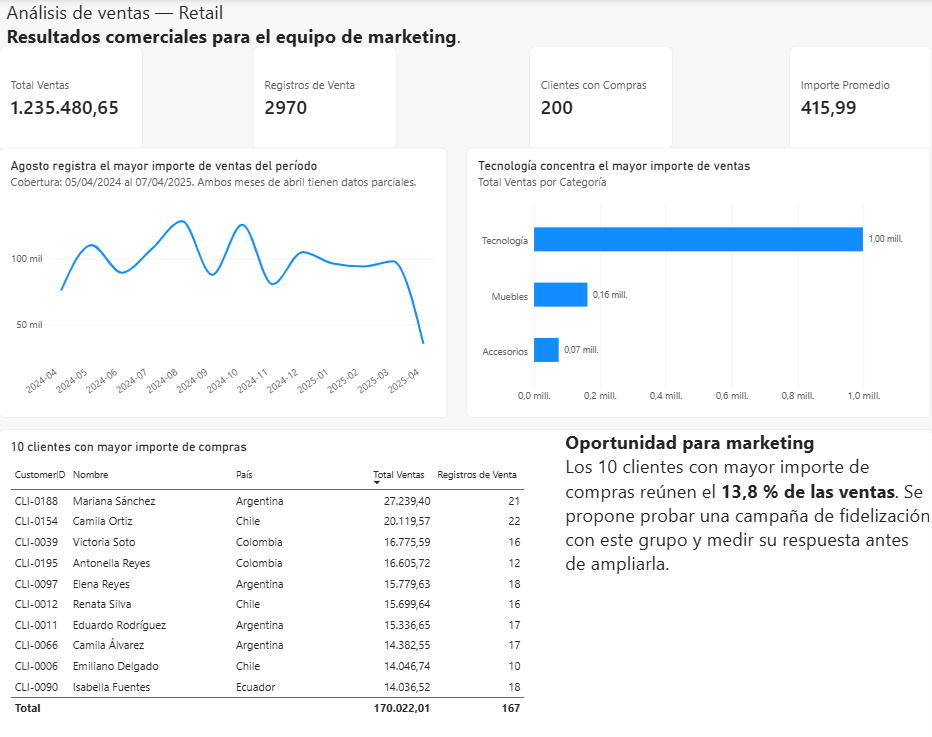

This screenshot's page, from the dashboard's own definition file:
{"tool":"powerbi","page":{"name":"Dashboard","canvas":[1920,1080],"ordinal":1},"visuals":[{"type":"textbox","box":[11,0,987.7,136.4],"z":0},{"type":"cardVisual","fields":{"Data":["_Medidas.Total Ventas"]},"box":[0,68.2,209,149.6],"z":1000},{"type":"cardVisual","fields":{"Data":["_Medidas.Registros de Venta"]},"box":[367.4,68.2,209,149.6],"z":2000},{"type":"cardVisual","fields":{"Data":["_Medidas.Clientes con Compras"]},"box":[767.7,68.2,209,149.6],"z":3000},{"type":"cardVisual","fields":{"Data":["_Medidas.Importe Promedio"]},"box":[1143.9,68.2,209,149.6],"z":4000},{"type":"lineChart","title":"Agosto registra el mayor importe de ventas del período","fields":{"Category":["Calendario.AñoMes"],"Y":["_Medidas.Total Ventas"]},"box":[0,215.6,648.9,391.6],"z":5000},{"type":"clusteredBarChart","title":"Tecnología concentra el mayor importe de ventas","fields":{"Category":["Productos.Categoría"],"Y":["_Medidas.Total Ventas"]},"box":[677.5,215.6,673.1,391.6],"z":6000},{"type":"tableEx","title":"10 clientes con mayor importe de compras","fields":{"Values":["Clientes.CustomerID","Clientes.Nombre","Clientes.País","_Medidas.Total Ventas","_Medidas.Registros de Venta"]},"box":[0,622.6,1352.9,457.6],"z":7000},{"type":"textbox","box":[819.8,622.5,530.2,260.6],"z":8000}]}

Visuals, with their boxes on the page's 1920x1080 design canvas (x1, y1, x2, y2). These are canvas units, not pixel positions in the 932x737 screenshot, which may show the page scaled, cropped or inside an application window:
textbox: <region>11, 0, 999, 136</region>
cardVisual - _Medidas.Total Ventas: <region>0, 68, 209, 218</region>
cardVisual - _Medidas.Registros de Venta: <region>367, 68, 576, 218</region>
cardVisual - _Medidas.Clientes con Compras: <region>768, 68, 977, 218</region>
cardVisual - _Medidas.Importe Promedio: <region>1144, 68, 1353, 218</region>
"Agosto registra el mayor importe de ventas del período" lineChart: <region>0, 216, 649, 607</region>
"Tecnología concentra el mayor importe de ventas" clusteredBarChart: <region>678, 216, 1351, 607</region>
"10 clientes con mayor importe de compras" tableEx: <region>0, 623, 1353, 1080</region>
textbox: <region>820, 622, 1350, 883</region>
